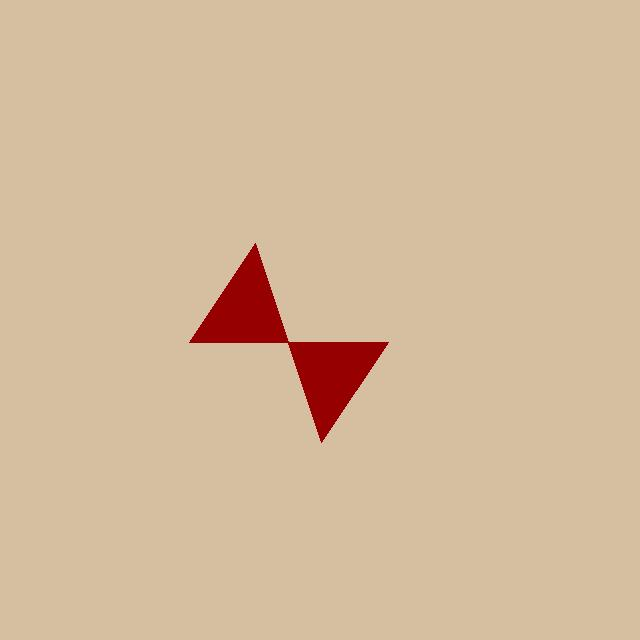laceration: (189, 243, 388, 442)
